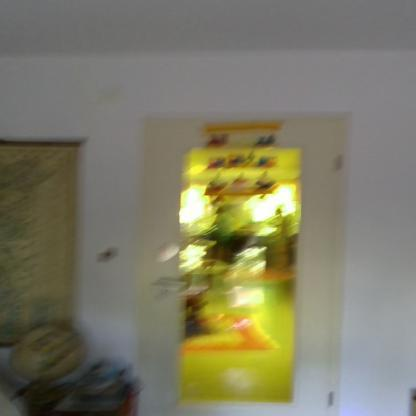door: (152, 121, 334, 416)
hinged: (335, 154, 344, 173), (326, 390, 334, 408)
lever: (149, 278, 188, 296)
